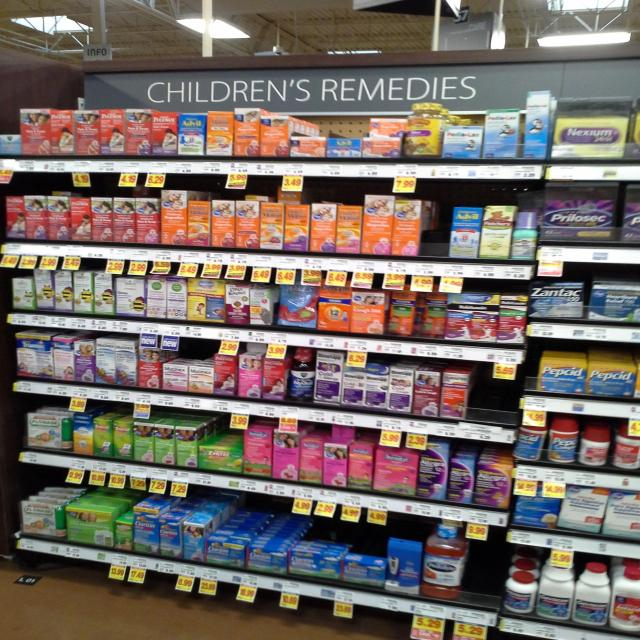empty_space: (478, 373, 512, 418), (427, 198, 448, 257), (473, 548, 492, 604)
